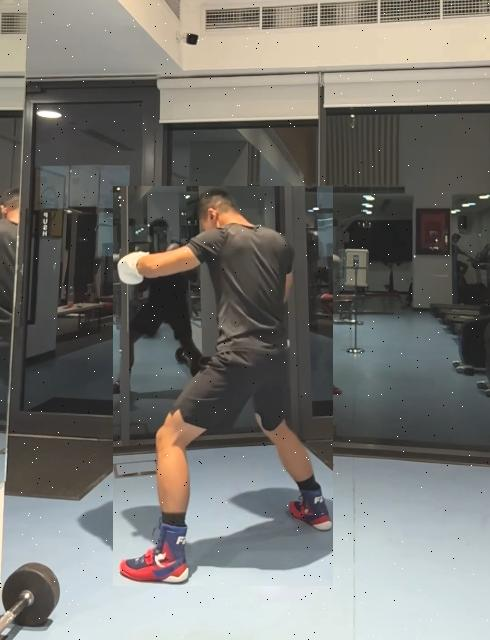punch: (113, 186, 333, 586)
